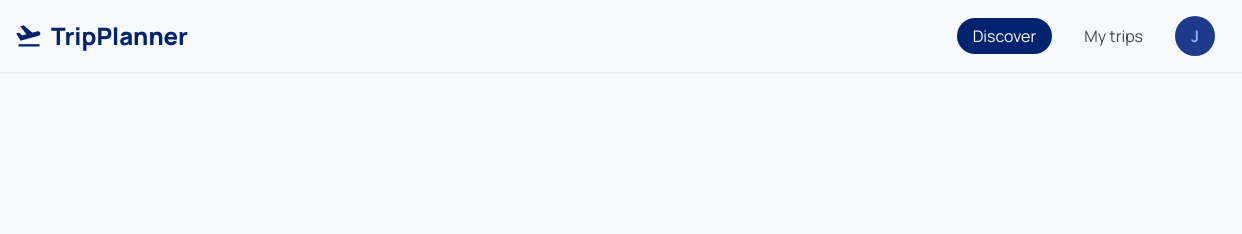
Test case: AppHeader › when logged in › reveals the signed-in email and a log-out item only after opening the menu
Check: the button "Log out" is not shown
Click the button named "Account menu".
click(1195, 36)  # box top-left (1175, 16), bottom-right (1215, 56)
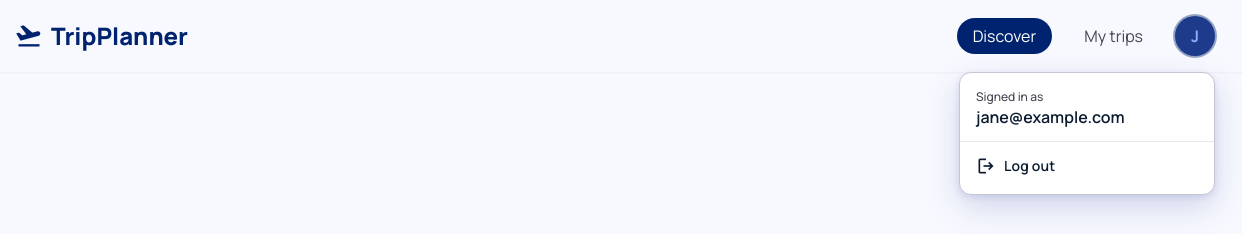
Check: the text "jane@example.com" is shown, box top-left (976, 106), bottom-right (1125, 128)
Check: the button "Log out" is shown, box top-left (960, 146), bottom-right (1214, 186)
